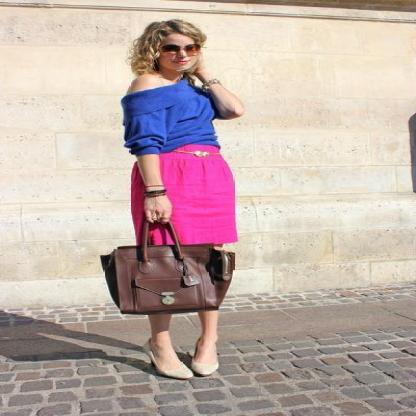bag: (100, 215, 235, 324)
shirt: (121, 80, 219, 157)
shoe: (138, 341, 218, 380)
skirt: (130, 144, 236, 244)
sunglass: (138, 36, 205, 71)
